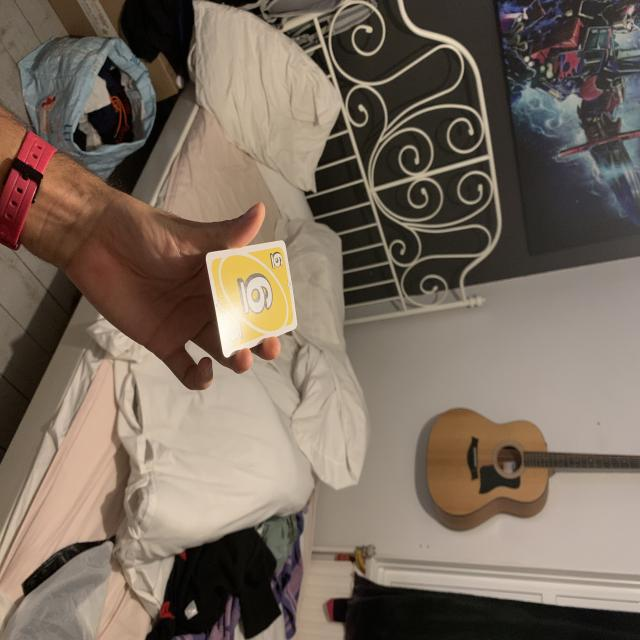lyellow-6: (265, 249, 287, 272)
